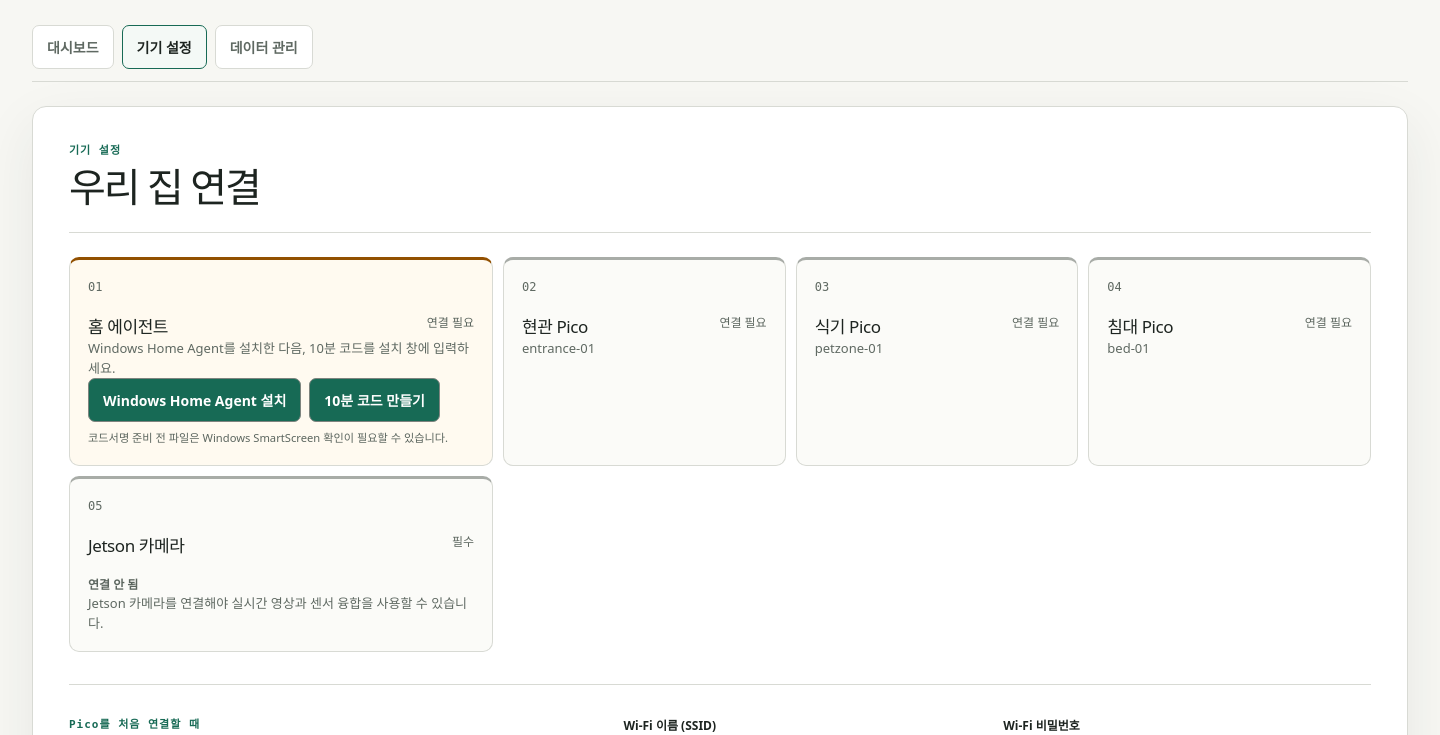
Test: explains when managed remote enrollment is not configured
The image size is (1440, 735).
Click the button "10분 코드 만들기": (375, 400) x1=309 y1=378 x2=440 y2=422
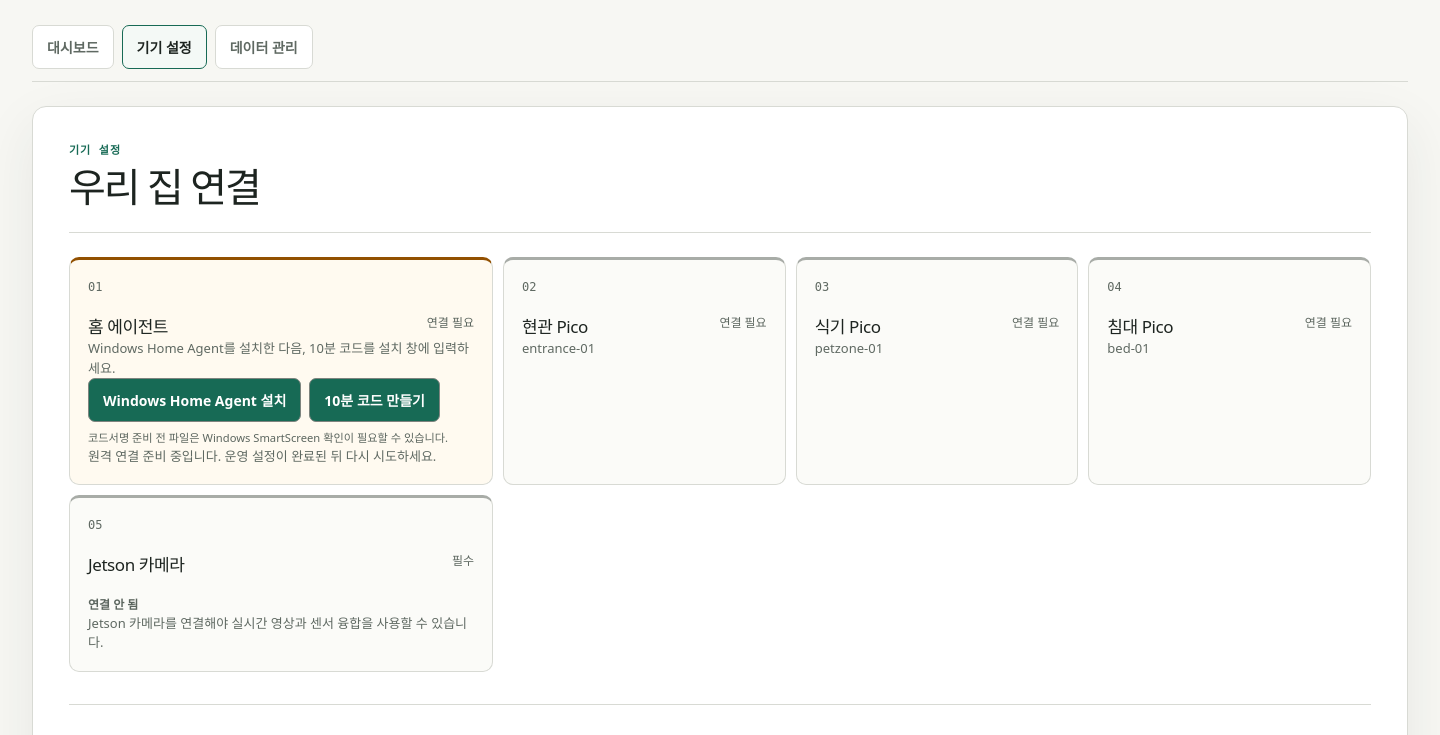
Result: the message shows "원격 연결 준비 중입니다" at x1=88 y1=447 x2=436 y2=465
